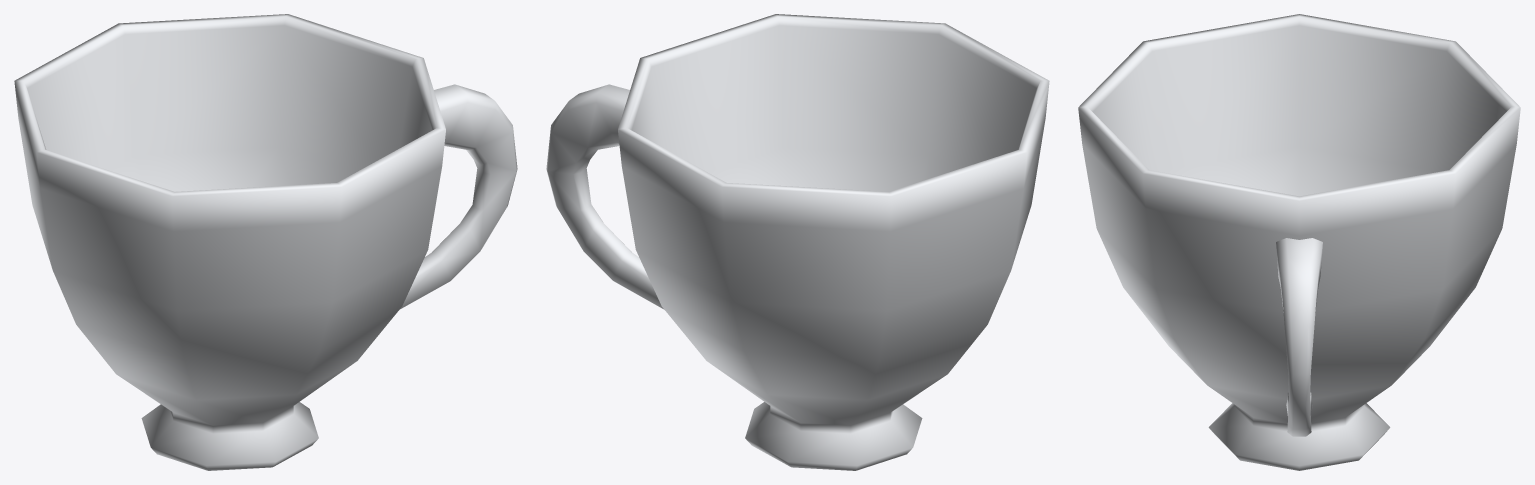
Rendered from cooking_assets_teacup.glb.
The picture shows the model from 3 angles, left to right: view 1: azimuth 30°, elevation 25°; view 2: azimuth 150°, elevation 25°; view 3: azimuth 270°, elevation 25°; orthographic projection.
Visible parts, largest first — view 1: sercups_teacup_Cylinder.116; view 2: sercups_teacup_Cylinder.116; view 3: sercups_teacup_Cylinder.116.
Part boxes in pixels (x1=…): sercups_teacup_Cylinder.116: x1=14, y1=14, x2=517, y2=470; sercups_teacup_Cylinder.116: x1=546, y1=14, x2=1049, y2=470; sercups_teacup_Cylinder.116: x1=1078, y1=14, x2=1520, y2=470.
Bounding box in the file's own units: 2.95 × 1.96 × 2.39.
Materials: 1 (1 with a texture image).
